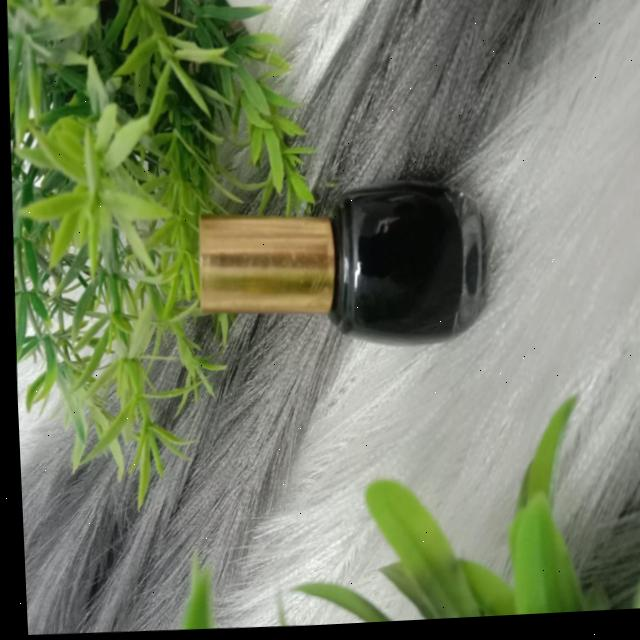nail polish: (147, 164, 503, 383)
